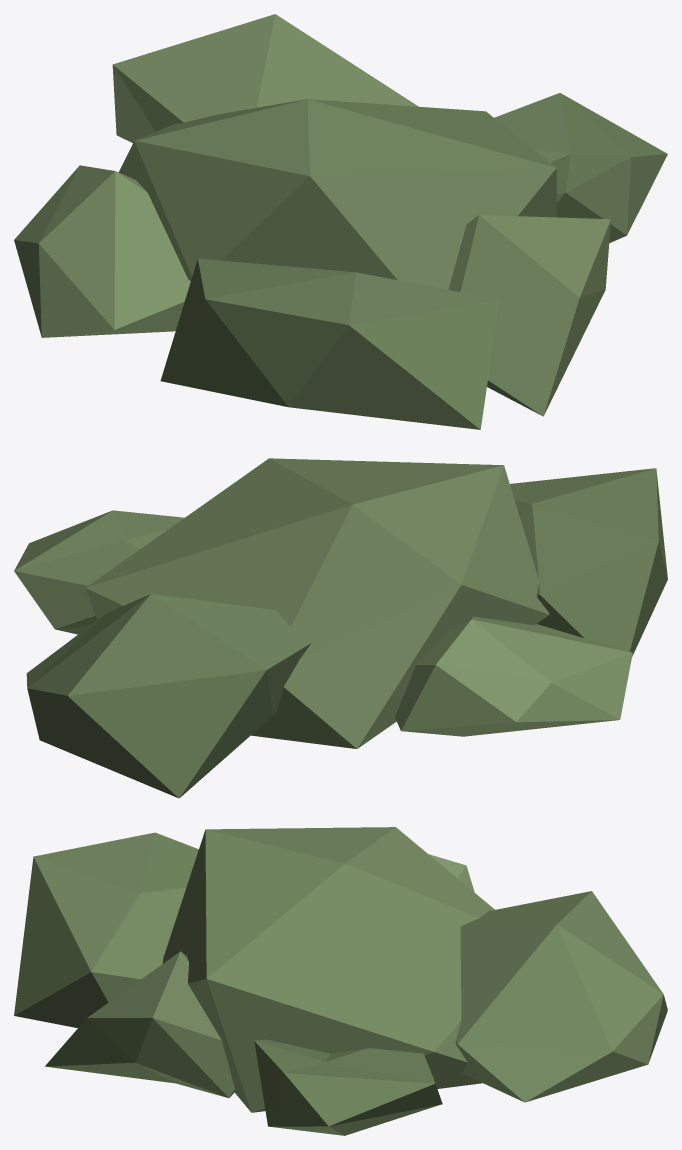
File: bush_2.glb
3 views of the same model, one above another, from view 1: azimuth 30°, elevation 25°; view 2: azimuth 150°, elevation 25°; view 3: azimuth 270°, elevation 25° (orthographic). The views are drawn at different scales.
Parts seen in each view (by area): view 1: bush_2.001; view 2: bush_2.001; view 3: bush_2.001.
Boxes of the visible parts, x1,y1,x2,y2 form: bush_2.001: (14,14,667,429); bush_2.001: (14,458,667,798); bush_2.001: (14,827,667,1135).
Bounding box in the file's own units: 3.51 × 1.14 × 3.69.
